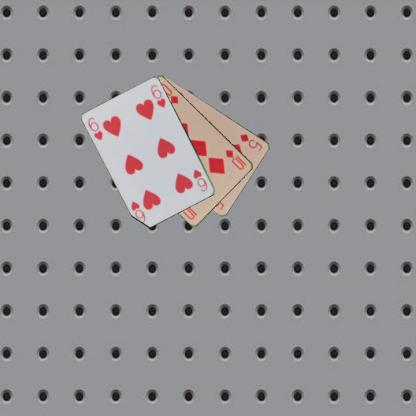10d: (223, 147, 246, 171)
5d: (237, 131, 264, 153)
6h: (86, 115, 104, 142), (191, 167, 209, 193)
